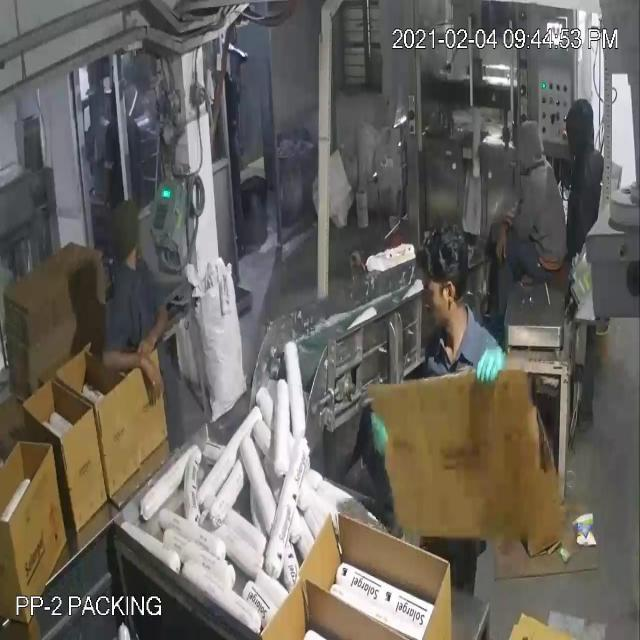No_Gloves: (24, 47, 502, 370)
